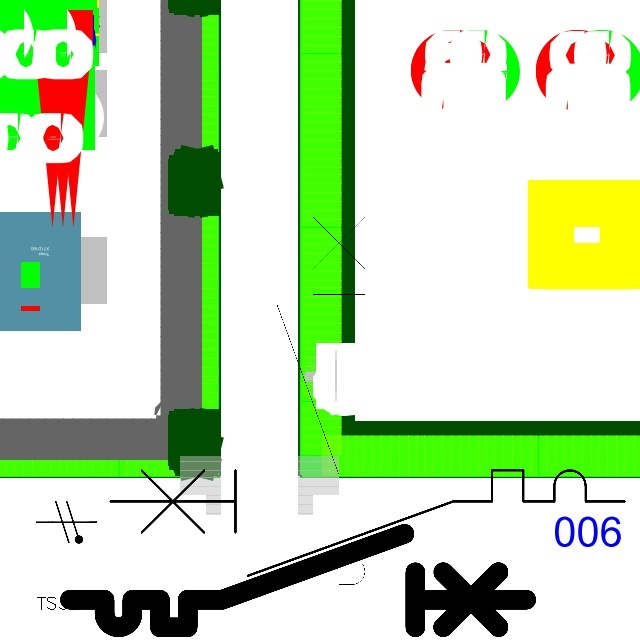interruptor_termomagnetico: (97, 457, 638, 589), (58, 522, 538, 639), (266, 180, 376, 628)
